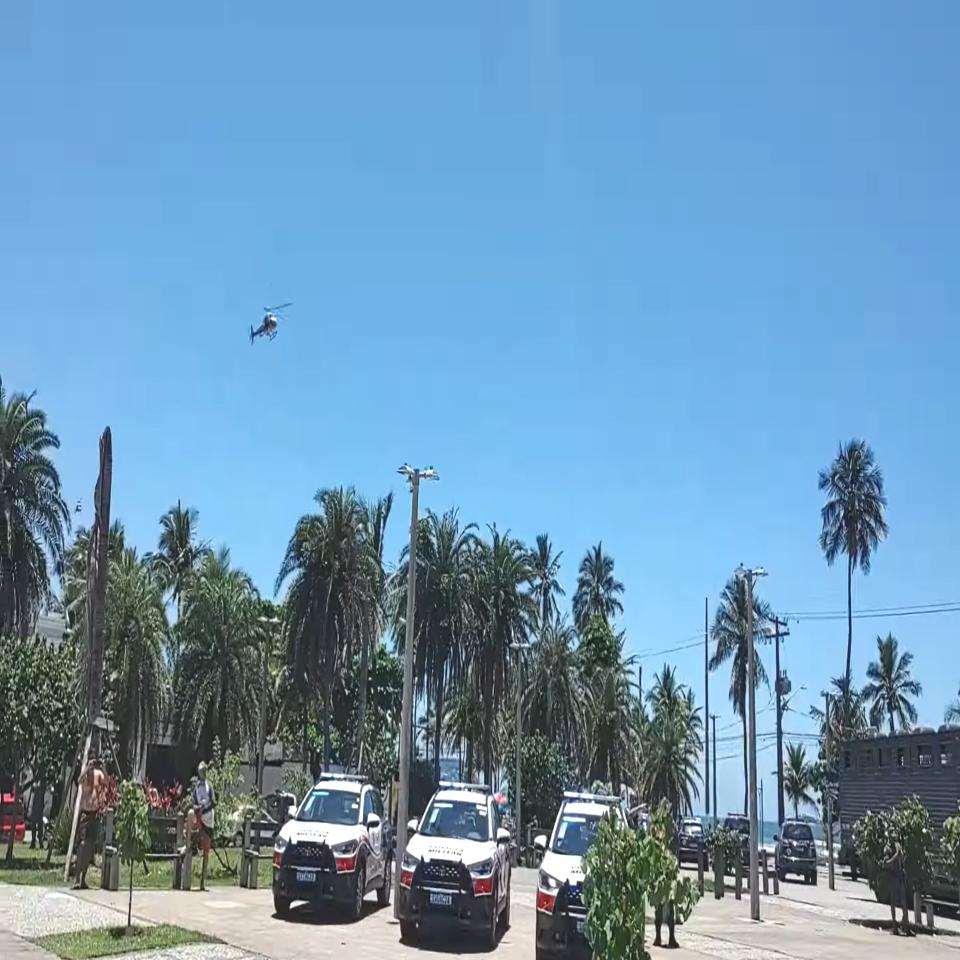viatura: (398, 777, 514, 950), (272, 769, 392, 919)
